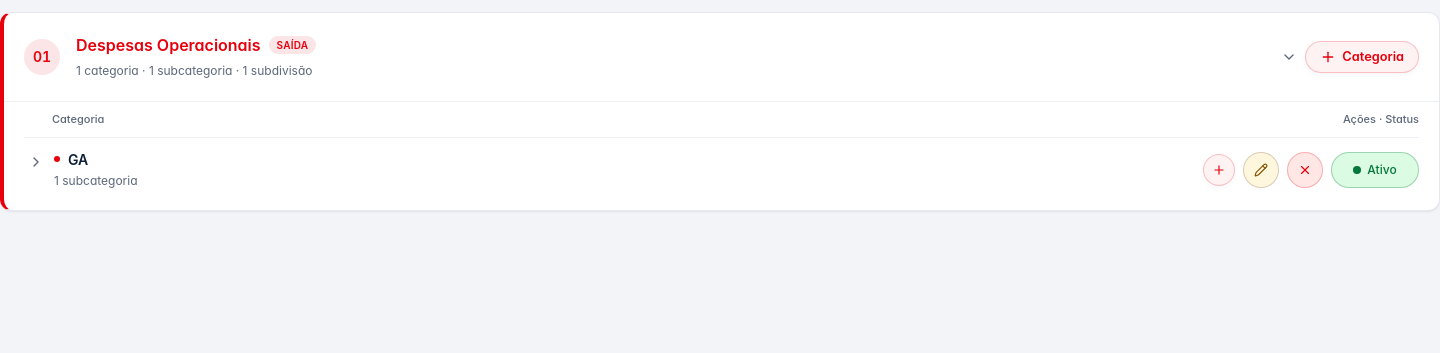
Test: expande os três níveis e não oferece criação de quarto nível
Click the button named "Expandir GA".
click(36, 162)  # box [24,150,48,174]
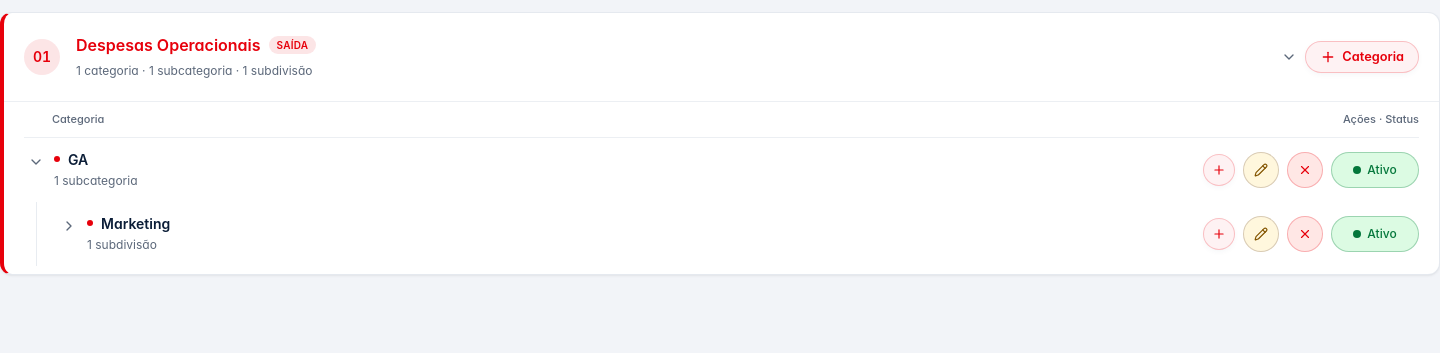
Click the button named "Expandir GA › Marketing".
click(69, 226)  # box [57,214,81,238]
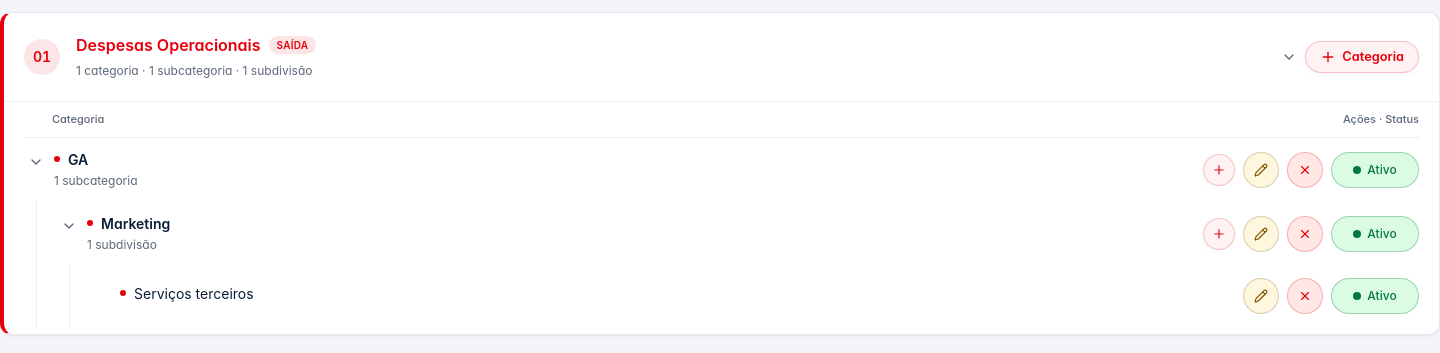
Check: the button named "Editar GA › Marketing › Serviços terceiros" is shown, box [1243,278,1279,314]
